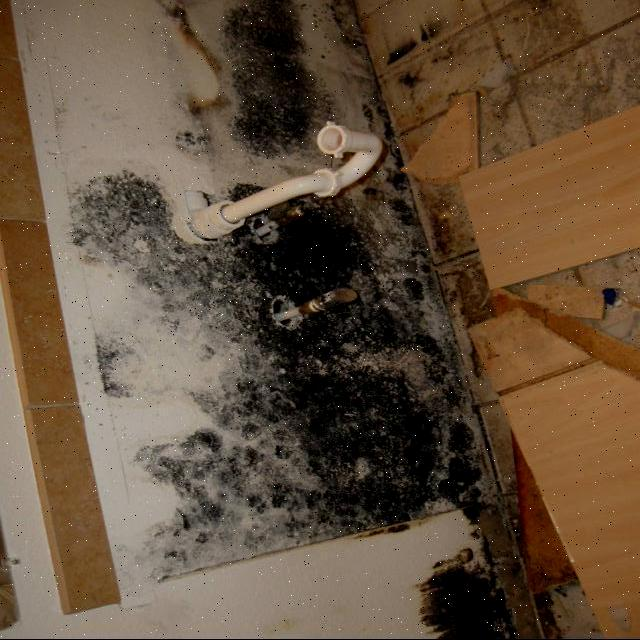dampens: (99, 44, 550, 640)
